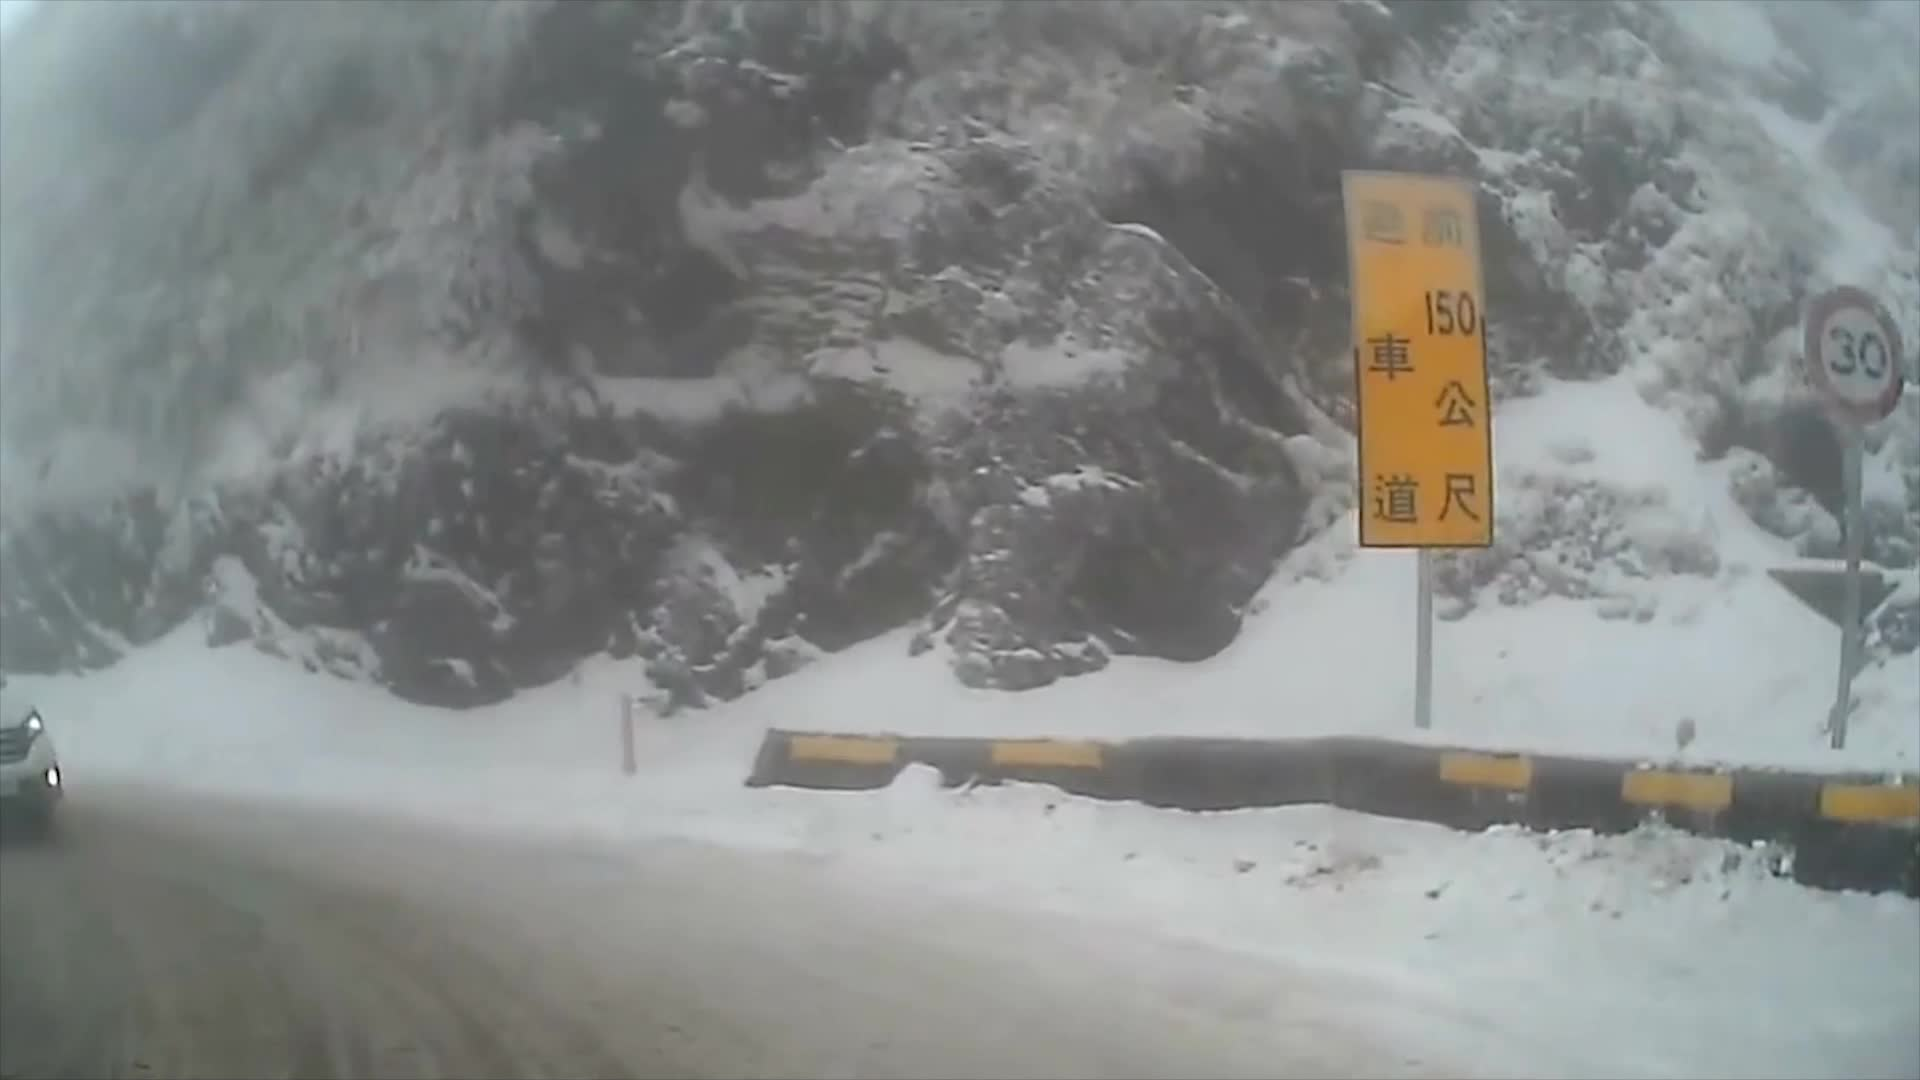vehicle: (1, 676, 62, 845)
